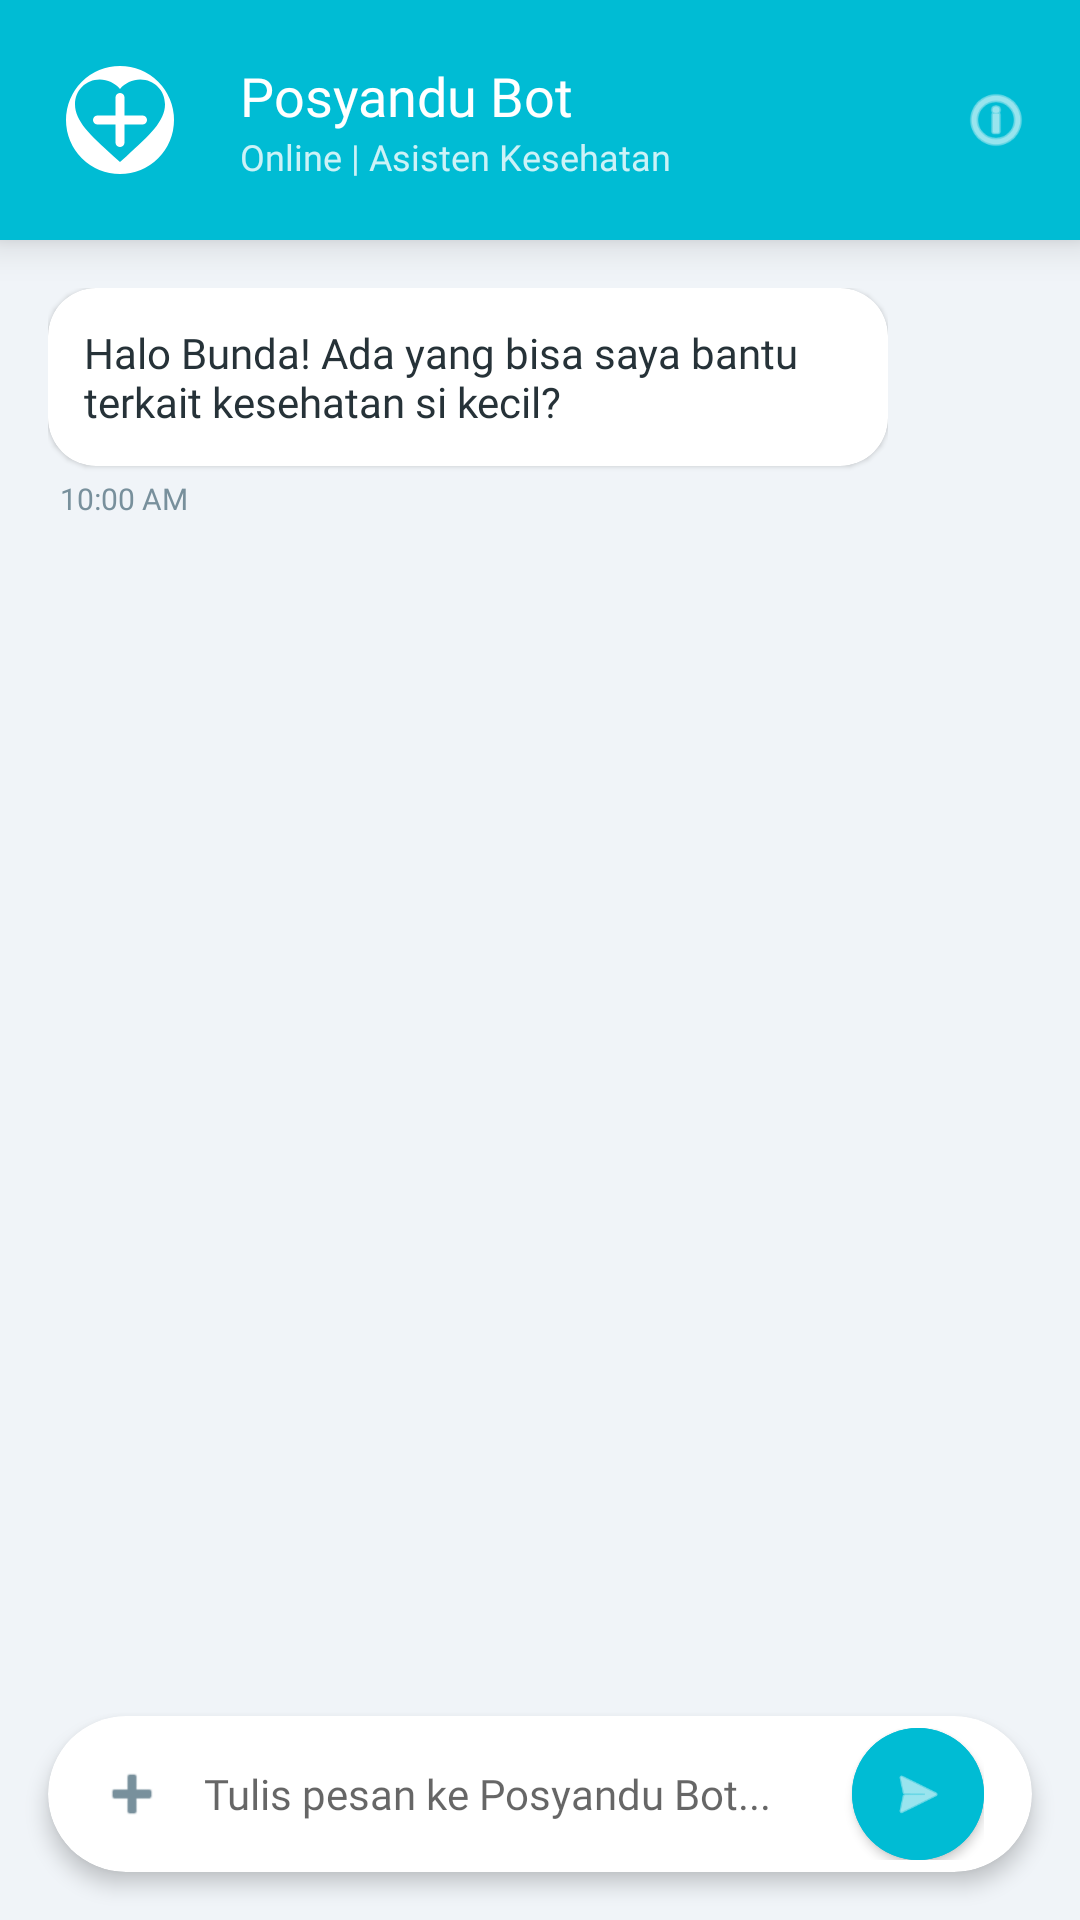

Icons on this 1080×1920 Android screen, each with the point to tap as (x,y):
add: (132,1794)
info details: (996,120)
send: (918,1794)
